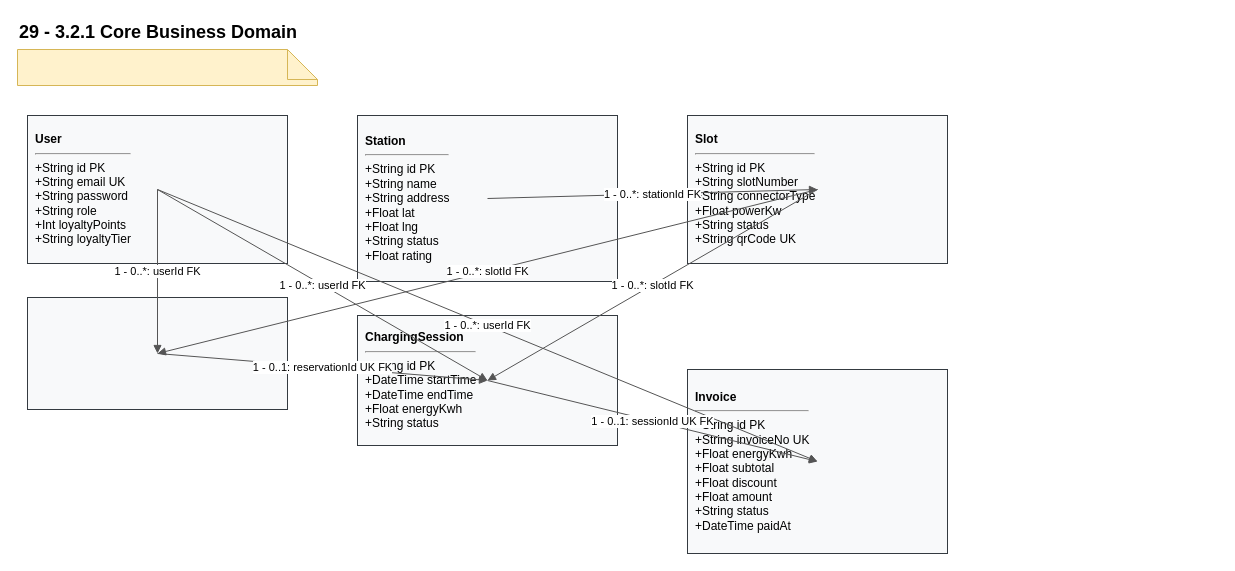
This 1235x571 diagram has some shape labels left out. Each missing label, with the centre of its shape:
"Mermaid classDiagram source: PHAN_TICH_THIET_KE_HE_THONG.md:1841" belongs at point (167, 67).
"Reservation +String id PK +DateTime startTime +DateTime endTime +String status" belongs at point (157, 353).
